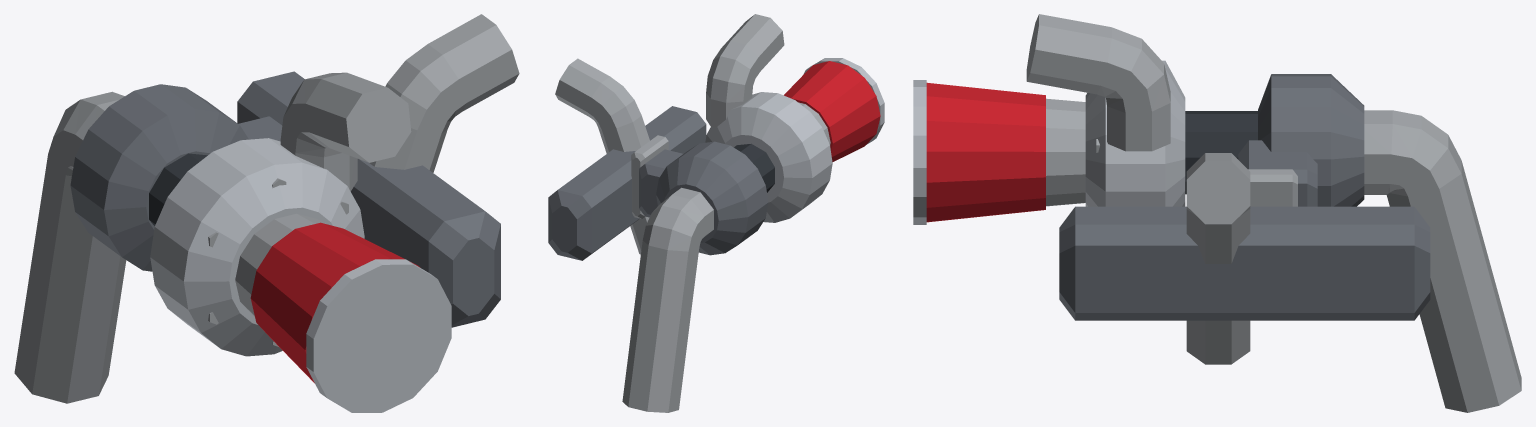
The model's file is ridgeback_4x4.glb.
3 renders of one model, left to right at view 1: azimuth 30°, elevation 25°; view 2: azimuth 150°, elevation 25°; view 3: azimuth 270°, elevation 25°, orthographic. The views are drawn at different scales.
Visible parts, largest first — view 1: model; view 2: model; view 3: model.
Part boxes in pixels (x1,y1,x2,y2): model: (14, 14, 519, 412); model: (548, 14, 884, 412); model: (913, 14, 1521, 412).
Bounding box in the file's own units: 0.2989 × 0.3407 × 0.4587.
2 materials, 1 textured.
